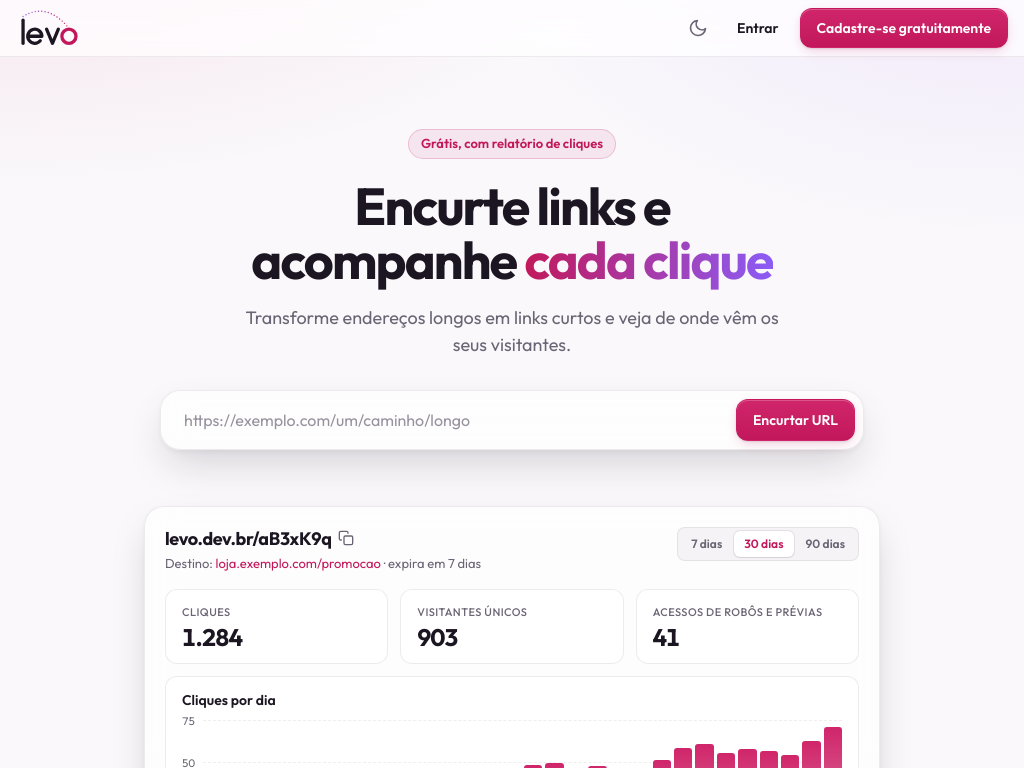
Test: Home › o modal fecha pelo X
The image size is (1024, 768).
Type "https://exemplo.com/" into the field named "URL longa".
click(448, 420); type("https://exemplo.com/")  # box [169,399,728,441]
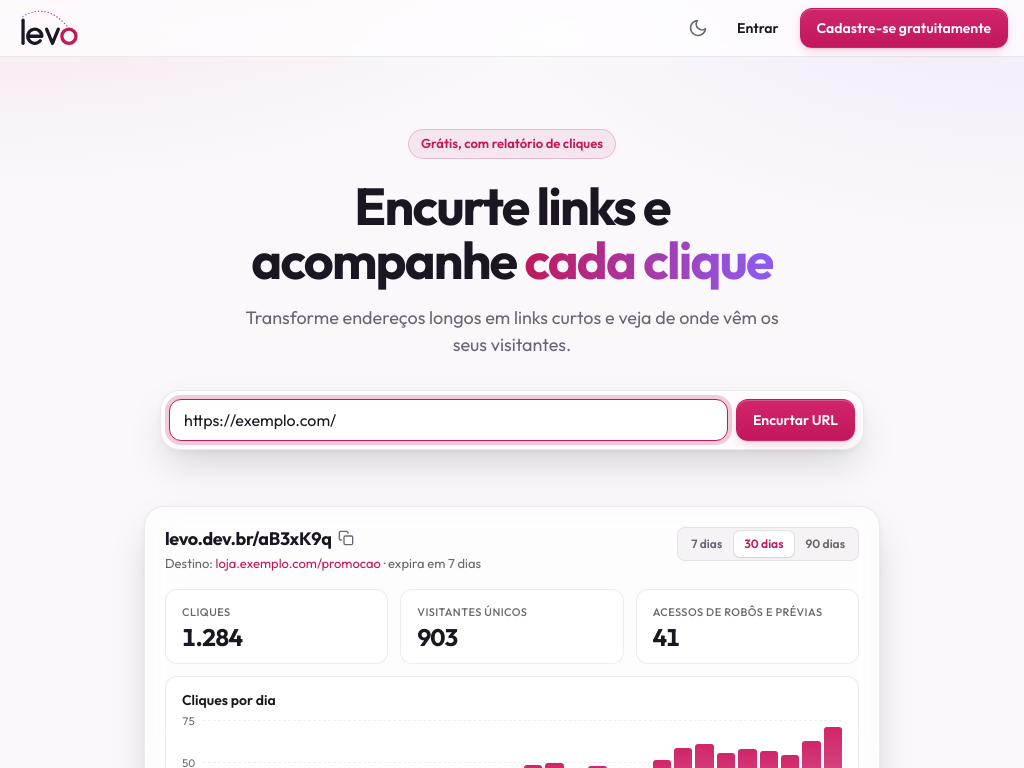
Click the button "Encurtar URL".
click(795, 420)  # box [736,399,855,441]
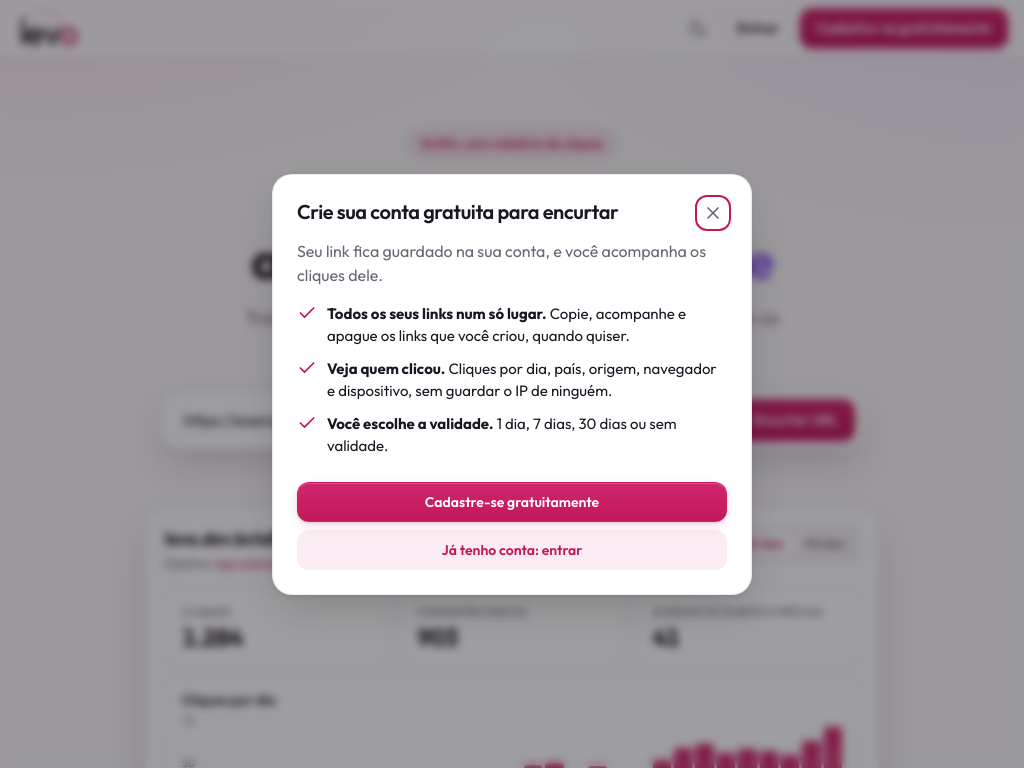
Click the button named "Fechar".
click(713, 212)  # box [699,198,727,226]
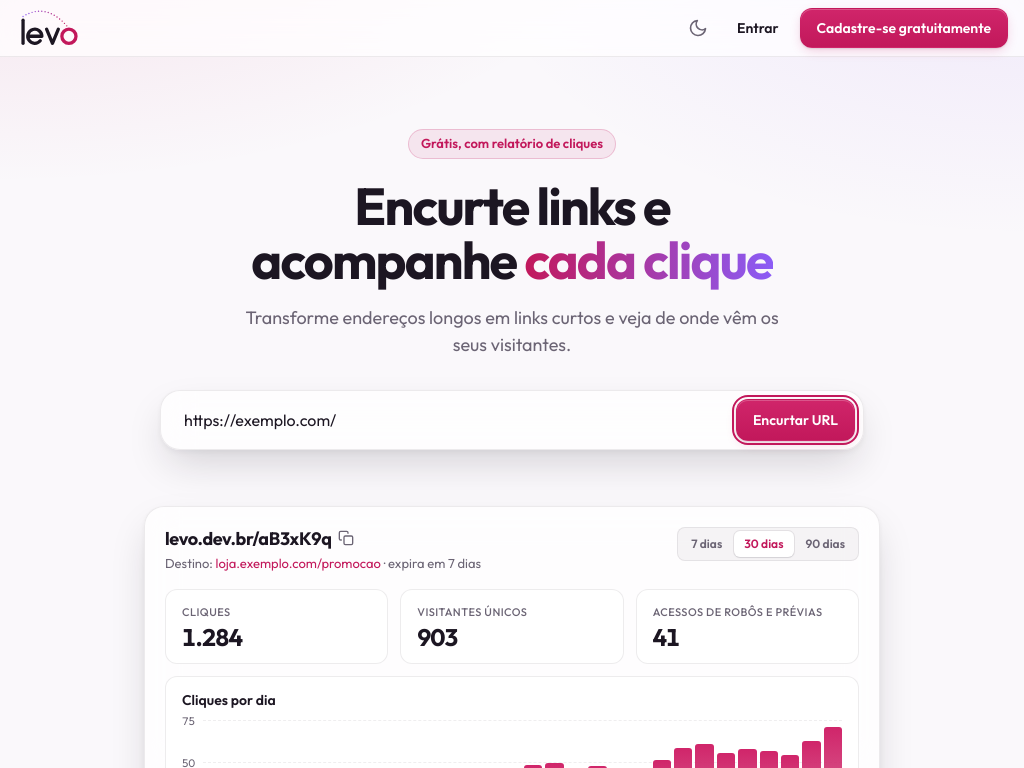
Now the dialog is gone
